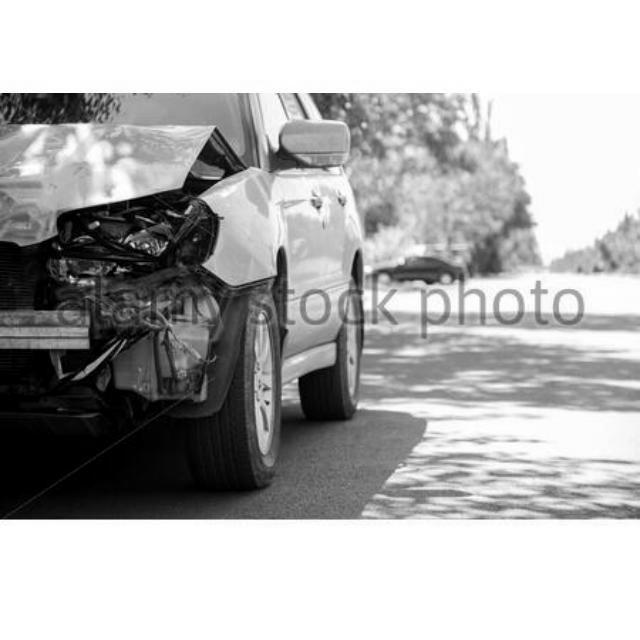bonnet-dent: (0, 121, 254, 202)
fender-dent: (195, 175, 287, 354)
